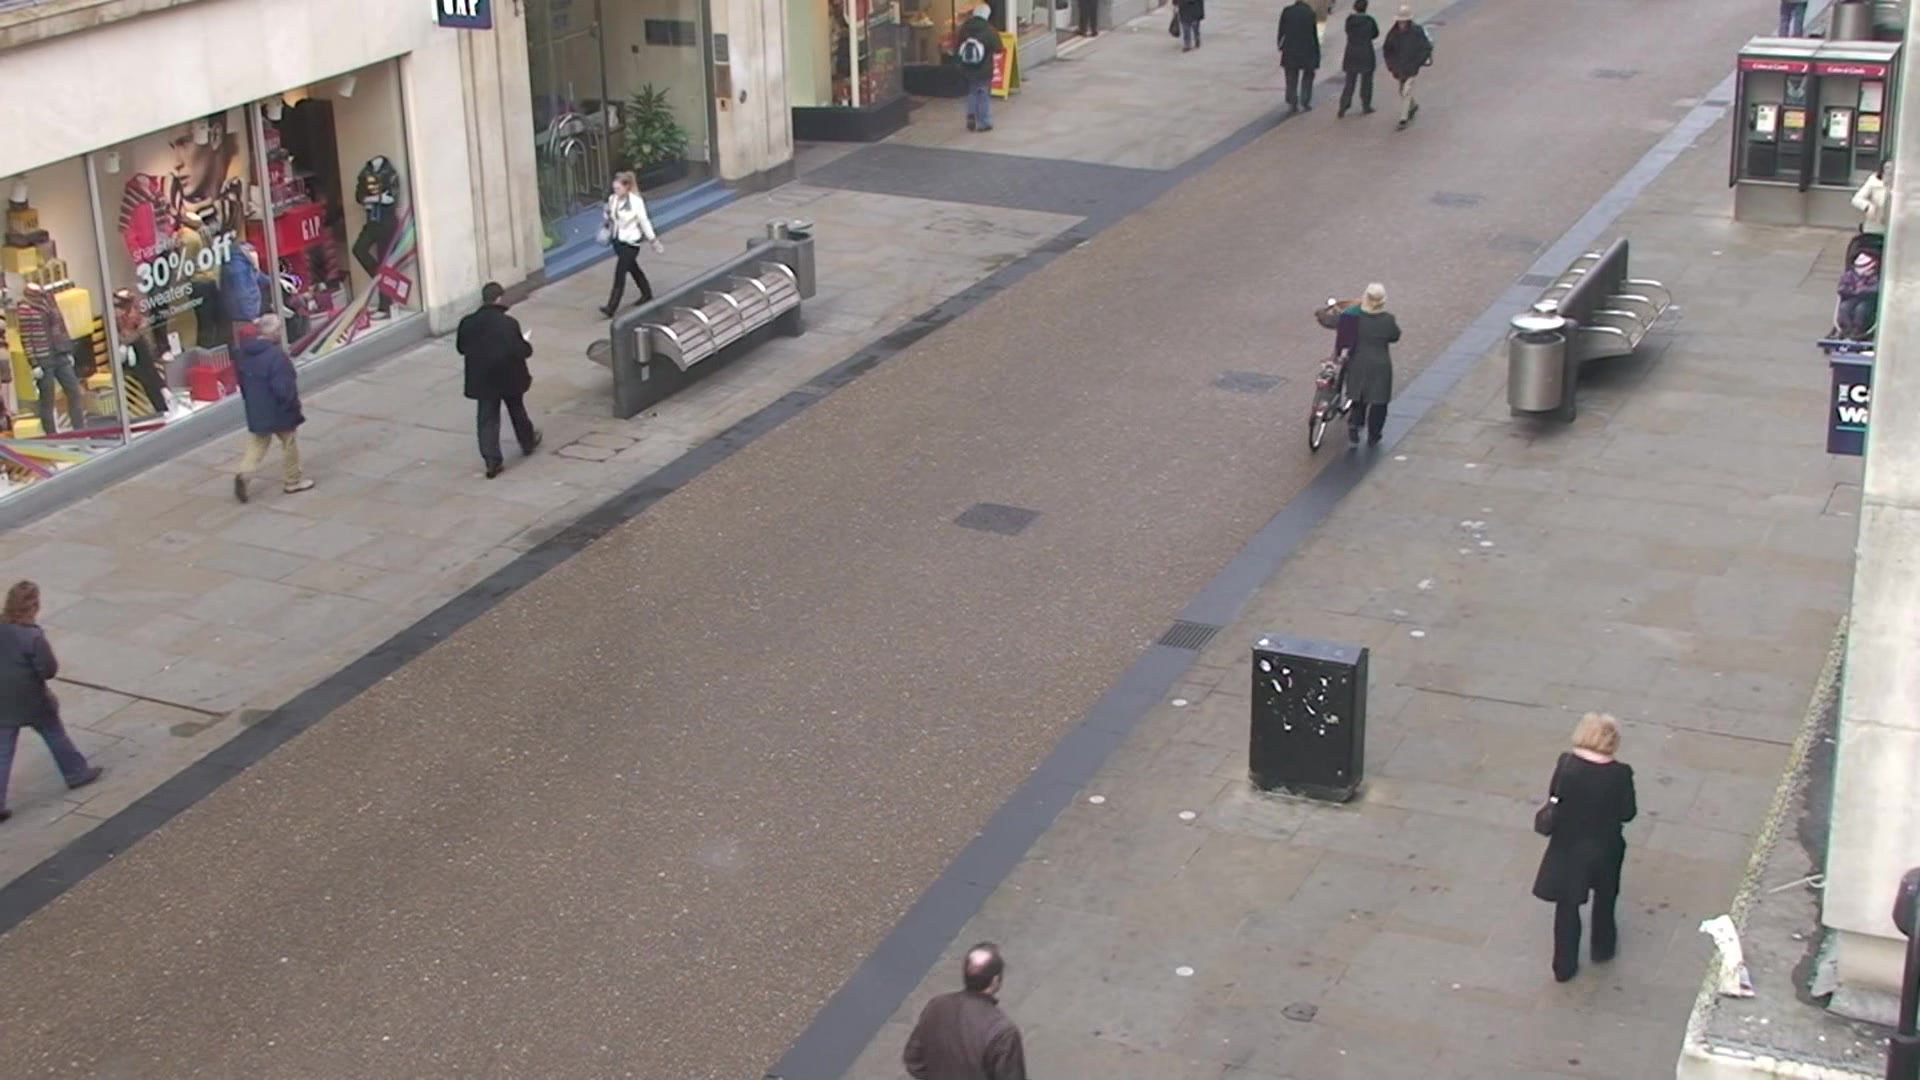person: (1532, 711, 1637, 985), (224, 312, 315, 506), (454, 281, 541, 480), (1313, 280, 1401, 457), (592, 169, 664, 319), (951, 1, 1005, 131), (1382, 3, 1434, 131), (1275, 1, 1320, 117), (1337, 1, 1380, 119)
